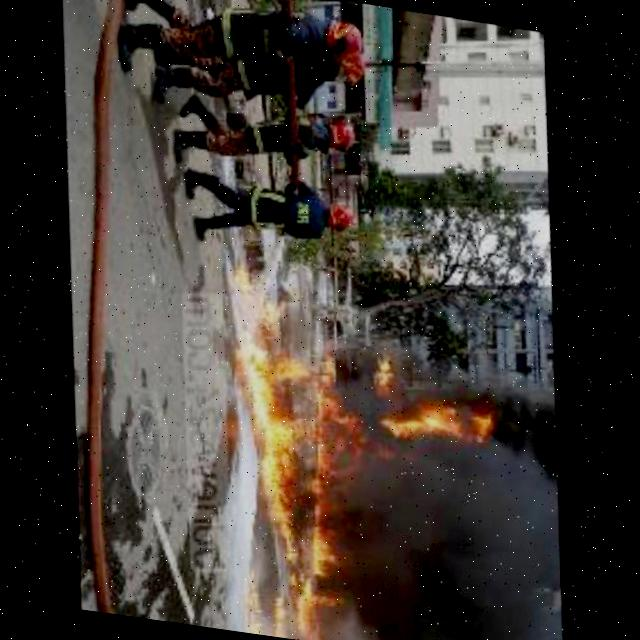fire: (180, 244, 407, 640), (375, 382, 515, 467)
